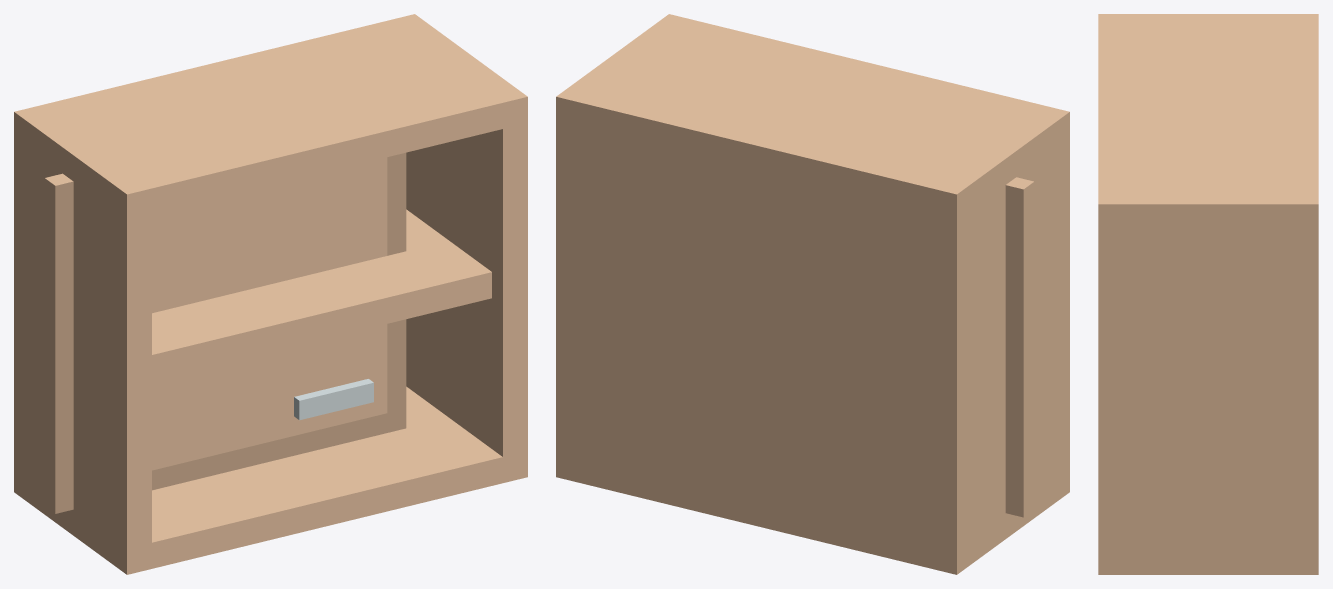
The model's file is kitchenCabinetUpper.glb.
3 views of the same model, side by side, from view 1: azimuth 30°, elevation 25°; view 2: azimuth 150°, elevation 25°; view 3: azimuth 270°, elevation 25° (orthographic). The views are drawn at different scales.
Parts seen in each view (by area): view 1: kitchenCabinetUpper, kitchenCabinetUpper.001; view 2: kitchenCabinetUpper, kitchenCabinetUpper.001; view 3: kitchenCabinetUpper.
Boxes of the visible parts, bbox=[...] form: kitchenCabinetUpper: bbox=[14, 14, 527, 574]; kitchenCabinetUpper.001: bbox=[44, 152, 406, 513]; kitchenCabinetUpper: bbox=[556, 14, 1069, 574]; kitchenCabinetUpper.001: bbox=[1005, 177, 1034, 517]; kitchenCabinetUpper: bbox=[1098, 14, 1318, 574].
Bounding box in the file's own units: 1.3 × 1.13 × 0.609.
